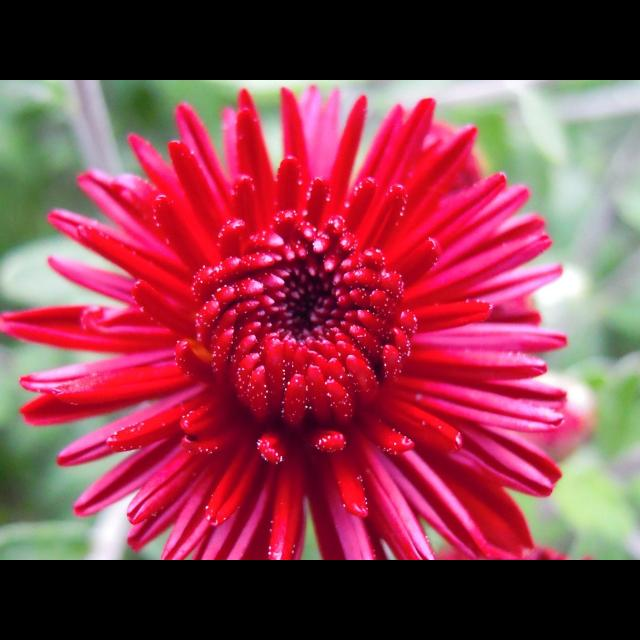Flower: (12, 94, 586, 550)
